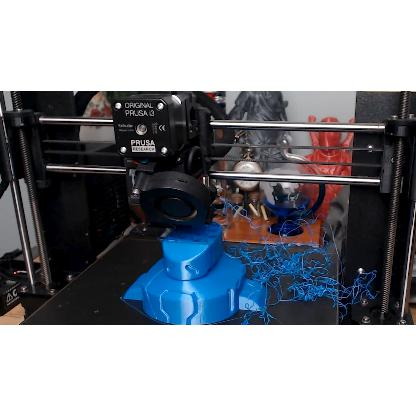fail: (232, 212, 376, 310)
